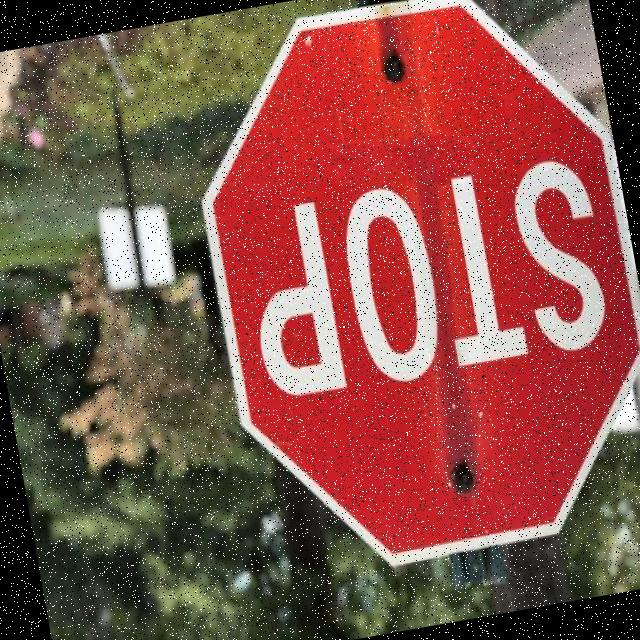stop: (154, 0, 640, 597)
